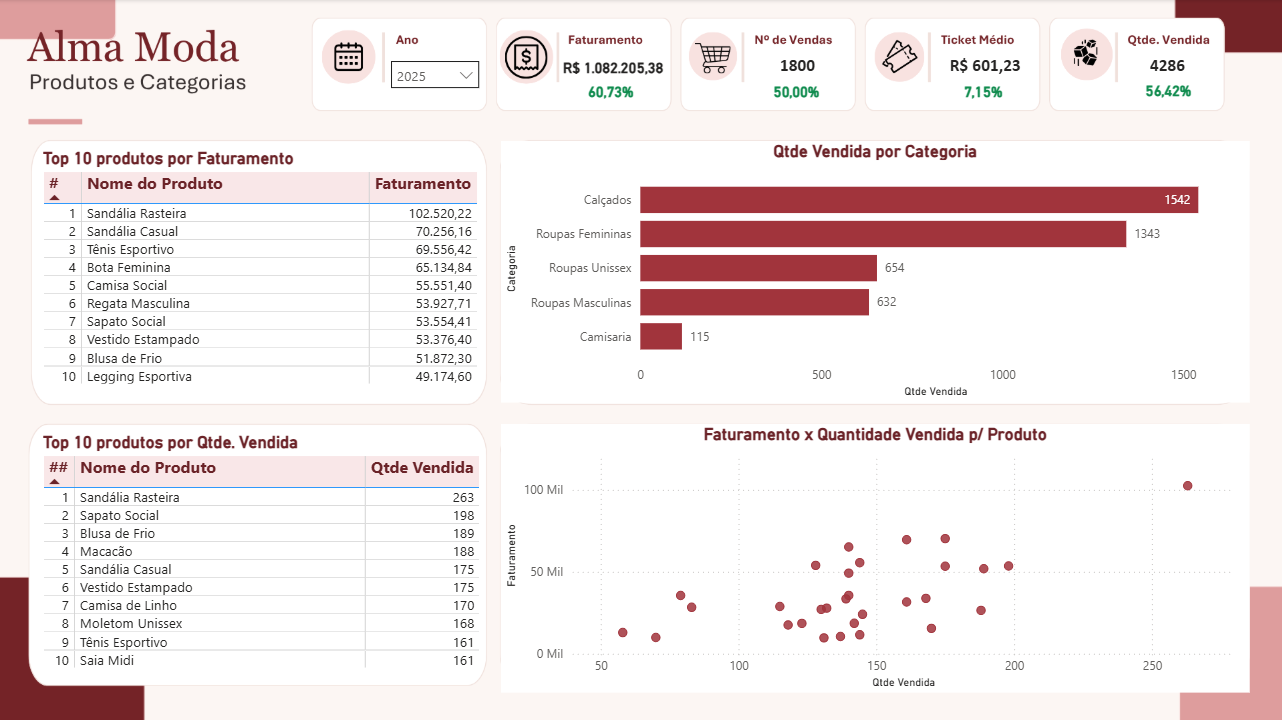

The page's visual inventory and layout, read from the dashboard file:
{"tool":"powerbi","page":{"name":"Produtos e Categorias","canvas":[1280,720],"ordinal":1},"visuals":[{"type":"card","fields":{"Values":["Medidas.Quantidade Vendida"]},"box":[1110.7,41.3,108.9,53.4],"z":0},{"type":"card","fields":{"Values":["Medidas.Numero de Vendas"]},"box":[740.8,41.3,108.9,53.4],"z":1000},{"type":"multiRowCard","fields":{"Values":["Medidas.Faturamento"]},"box":[557.1,55.6,117.8,39.3],"z":2000},{"type":"card","fields":{"Values":["Medidas.Ticket Medio"]},"box":[903.1,41.3,160.3,53.4],"z":3000},{"type":"slicer","fields":{"Values":["dData.Ano"]},"box":[380.3,51.4,107.9,42.4],"z":4000},{"type":"multiRowCard","fields":{"Values":["Medidas.Crescimento Faturamento %"]},"box":[581.5,79.6,72.6,35.3],"z":5000},{"type":"multiRowCard","fields":{"Values":["Medidas.Crescimento Ticket Médio %"]},"box":[956.5,79.6,72.6,35.3],"z":6000},{"type":"multiRowCard","fields":{"Values":["Medidas.Crescimento Quantidade %"]},"box":[1136.9,78.6,72.6,35.3],"z":7000},{"type":"multiRowCard","fields":{"Values":["Medidas.Crescimento Vendas %"]},"box":[766.5,79.6,73,34.9],"z":8000},{"type":"tableEx","title":"  Top 10 produtos por Faturamento","fields":{"Values":["Medidas.Ranking Produto Faturamento","dProdutos.Nome do Produto","Medidas.Faturamento"]},"box":[38.2,148.3,449.2,266],"z":9000},{"type":"tableEx","title":"  Top 10 produtos  por Qtde. Vendida","fields":{"Values":["Medidas.##","dProdutos.Nome do Produto","Medidas.Quantidade Vendida"]},"box":[37.9,432,448.9,268.4],"z":10000},{"type":"barChart","fields":{"Y":["Medidas.Qtde Vendida"],"Category":["dCategorias.Categoria","dCategorias.Categoria Simplificada"]},"box":[499.4,141.7,746.8,260.6],"z":11000},{"type":"scatterChart","title":"Faturamento x Quantidade  Vendida p/ Produto","fields":{"X":["Medidas.Qtde Vendida"],"Y":["Medidas.Faturamento"],"Category":["dProdutos.Nome do Produto"]},"box":[499.4,424.1,746.8,268.2],"z":12000}]}

Visuals, with their boxes in screenshot pixels (x1, y1, x2, y2), scaled from the page's 1280x720 canvas onto the 1282x720 screenshot:
card - Medidas.Quantidade Vendida: [x1=1112, y1=41, x2=1222, y2=95]
card - Medidas.Numero de Vendas: [x1=742, y1=41, x2=851, y2=95]
multiRowCard - Medidas.Faturamento: [x1=558, y1=56, x2=676, y2=95]
card - Medidas.Ticket Medio: [x1=905, y1=41, x2=1065, y2=95]
slicer - dData.Ano: [x1=381, y1=51, x2=489, y2=94]
multiRowCard - Medidas.Crescimento Faturamento %: [x1=582, y1=80, x2=655, y2=115]
multiRowCard - Medidas.Crescimento Ticket Médio %: [x1=958, y1=80, x2=1031, y2=115]
multiRowCard - Medidas.Crescimento Quantidade %: [x1=1139, y1=79, x2=1211, y2=114]
multiRowCard - Medidas.Crescimento Vendas %: [x1=768, y1=80, x2=841, y2=114]
"  Top 10 produtos por Faturamento" tableEx: [x1=38, y1=148, x2=488, y2=414]
"  Top 10 produtos  por Qtde. Vendida" tableEx: [x1=38, y1=432, x2=488, y2=700]
barChart - Medidas.Qtde Vendida x dCategorias.Categoria: [x1=500, y1=142, x2=1248, y2=402]
"Faturamento x Quantidade  Vendida p/ Produto" scatterChart: [x1=500, y1=424, x2=1248, y2=692]
